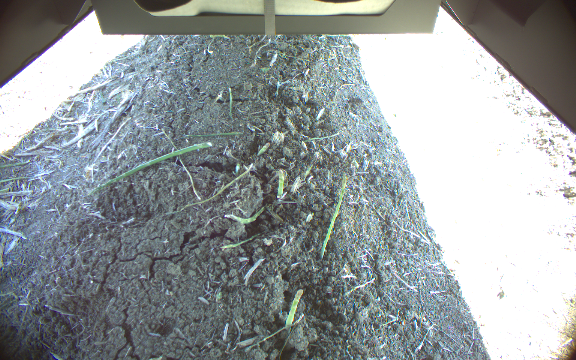aspa: (319, 171, 348, 259), (284, 289, 304, 329), (277, 170, 286, 200), (256, 142, 270, 159)
